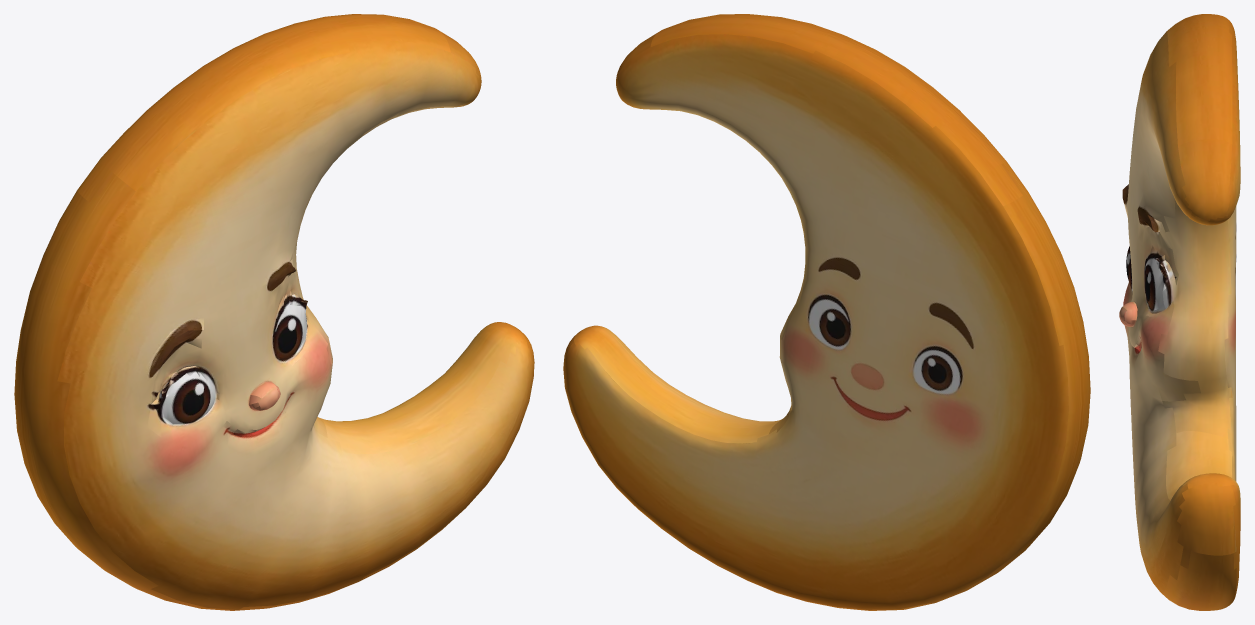
The model's file is hilal-acik.glb.
3 renders of one model, left to right at view 1: azimuth 30°, elevation 25°; view 2: azimuth 150°, elevation 25°; view 3: azimuth 270°, elevation 25°, orthographic. The views are drawn at different scales.
Parts seen in each view (by area): view 1: Mesh0; view 2: Mesh0; view 3: Mesh0.
Part boxes in pixels (x1,y1,x2,y2): Mesh0: [14, 14, 534, 610]; Mesh0: [563, 14, 1090, 610]; Mesh0: [1119, 14, 1240, 610].
Size of the model in its own units: 1.79 by 1.9 by 0.3797.
Materials: 1 (1 with a texture image).
